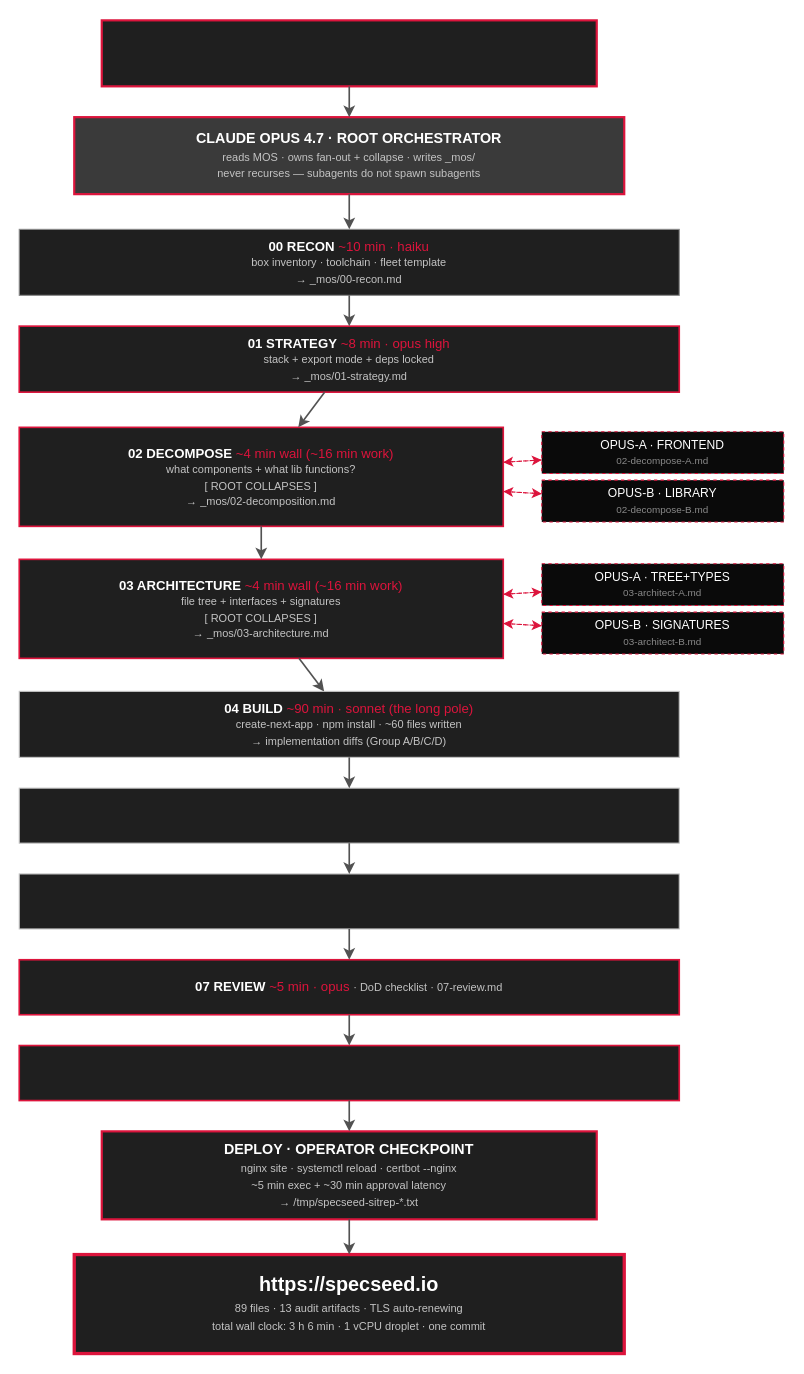
Image size: 804x1374. Some labels were removed from this diagram. The centre of each missing label's shape, as x and y in pixels:
"05 WIRE ~3 min · import graph + prop contracts · 05-wire.md" belongs at (x=348, y=815).
"06 TEST ~5 min · lint · build · tsc all 0 errors · 06-verification.md" belongs at (x=348, y=901).
"08 INTEGRATION ~5 min · opus · docs + final build · 08-integration.md" belongs at (x=349, y=1072).
"MOS · ONE HUMAN DOCUMENT SPECSEED-MOS.md · ~50 KB · execution contract" belongs at (x=348, y=53).
